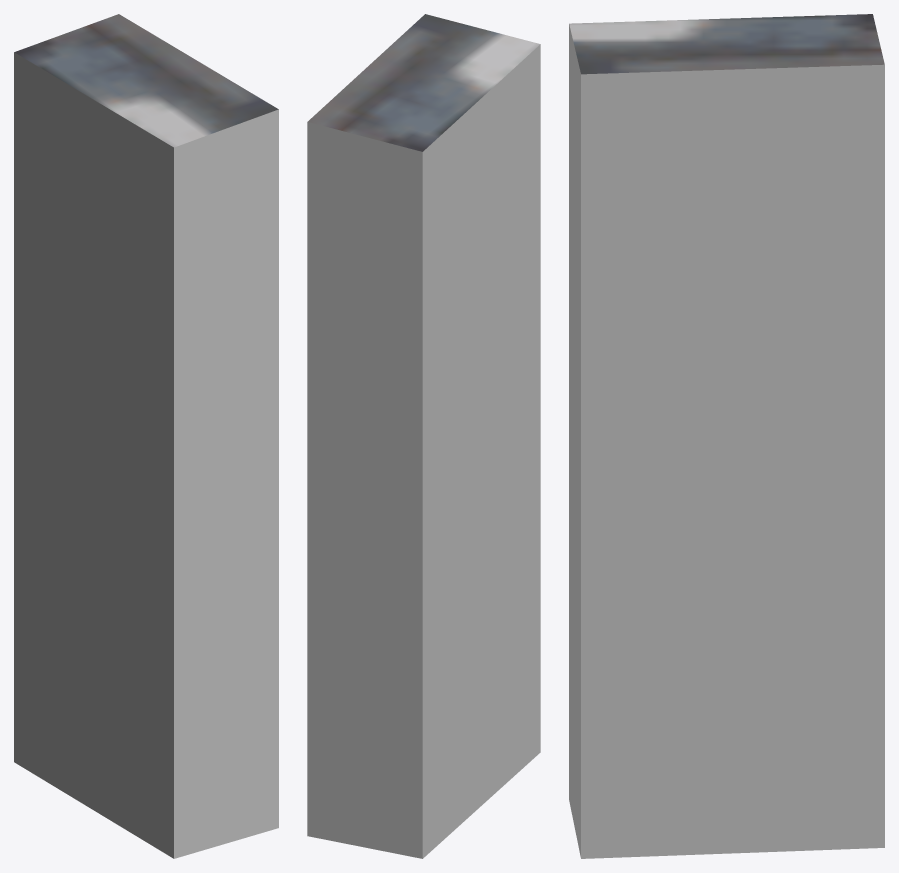
Rendered from DEBW_0010007THWD.gltf.
3 views of the same model, side by side, from view 1: azimuth 30°, elevation 25°; view 2: azimuth 150°, elevation 25°; view 3: azimuth 270°, elevation 25° (orthographic). The views are drawn at different scales.
Parts seen in each view (by area): view 1: Z_UP; view 2: Z_UP; view 3: Z_UP.
Part boxes in pixels (<box>): Z_UP: <box>14,14,278,858</box>; Z_UP: <box>307,14,540,858</box>; Z_UP: <box>569,14,884,858</box>.
Size of the model in its own units: 2.77 by 14.51 by 5.29.
2 materials, 1 textured.
